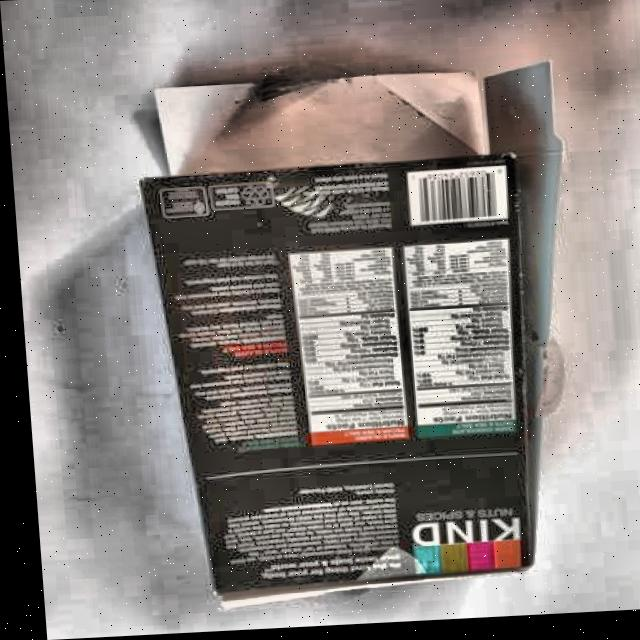paper: (127, 59, 604, 611)
